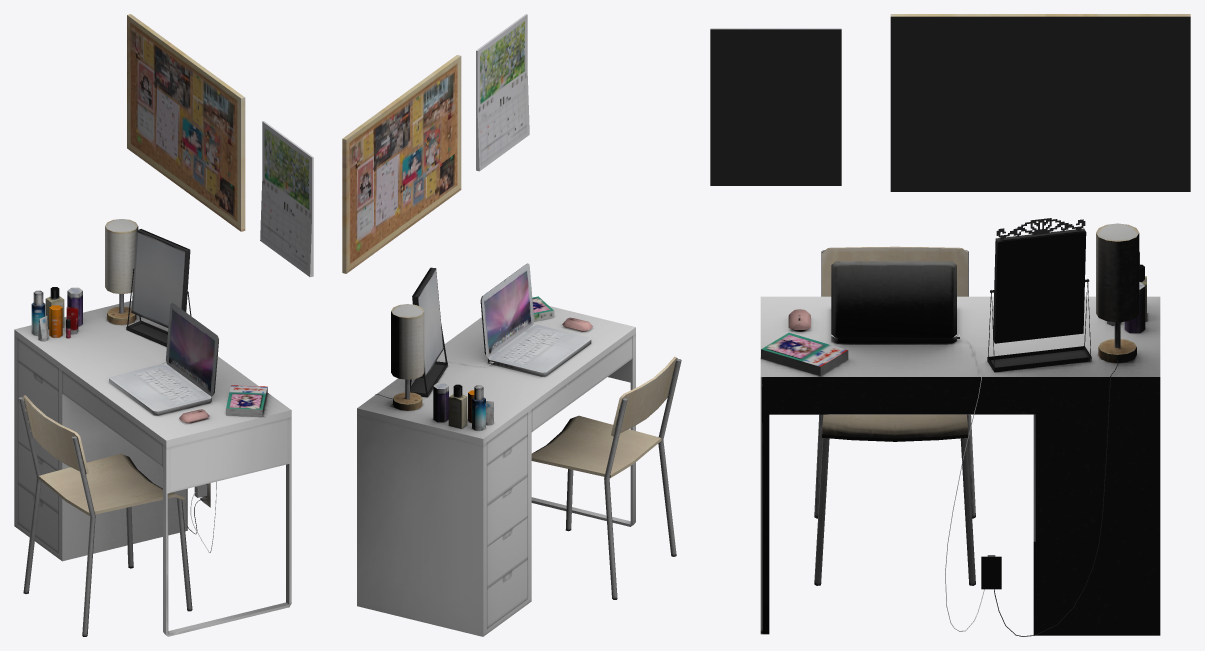
Rendered from apartment desk.fbx.
3 views of the same model, side by side, from view 1: azimuth 30°, elevation 25°; view 2: azimuth 150°, elevation 25°; view 3: azimuth 270°, elevation 25° (orthographic). The views are drawn at different scales.
Parts seen in each view (by area): view 1: desk; view 2: desk; view 3: desk.
Boxes of the visible parts, <box> form: desk: <box>14,14,313,636</box>; desk: <box>342,14,681,636</box>; desk: <box>710,14,1190,636</box>.
Size of the model in its own units: 79.43 by 180 by 126.
